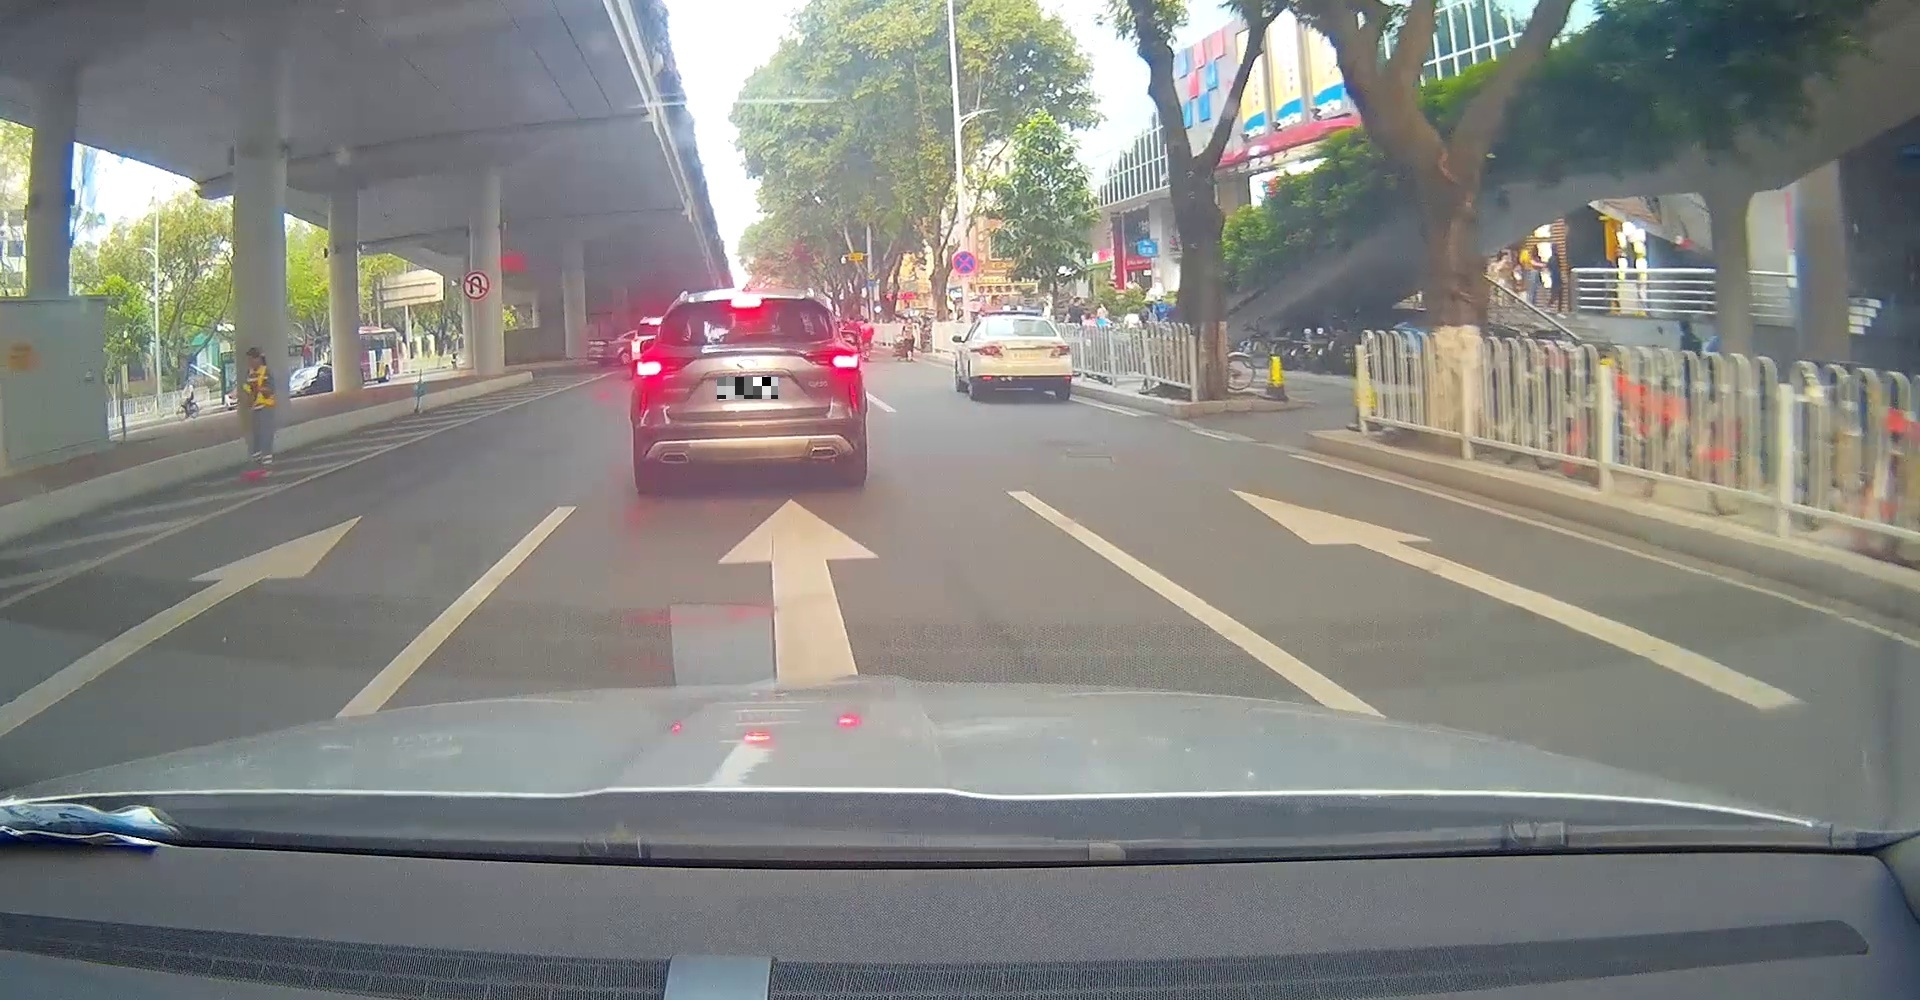L_light: (635, 355, 695, 376), (979, 345, 1003, 357)
R_light: (800, 350, 860, 371), (1050, 345, 1070, 357)
T_light: (730, 298, 761, 308), (1010, 319, 1027, 324)
day-brake: (630, 288, 867, 494)
day-no: (977, 316, 1073, 401)
plate_1: (717, 377, 778, 398)
